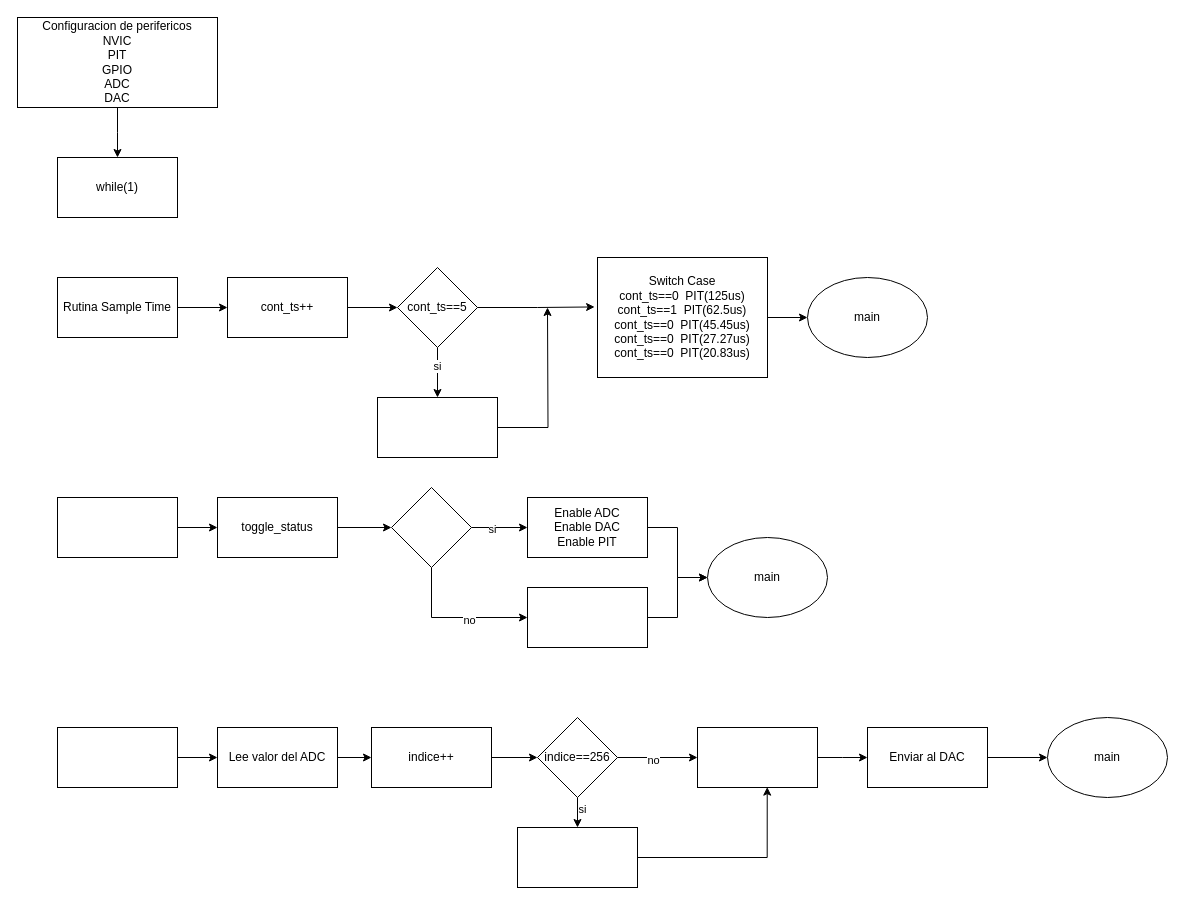
The diagram is 1185 pixels wide and 905 high, and some of its shapes have lost their labels. The centre of each missing label's shape, as x and y in pixels:
Almacenar lectura en el indice en Q15: the point at 757,757
cont_ts=0: the point at 437,427
Disable ADC Disable DAC Disable PIT Clear Buffer: the point at 587,617
indice=0: the point at 577,857
Rutina PIT: the point at 117,757
Rutina Start_Stop: the point at 117,527
status==1: the point at 431,527
